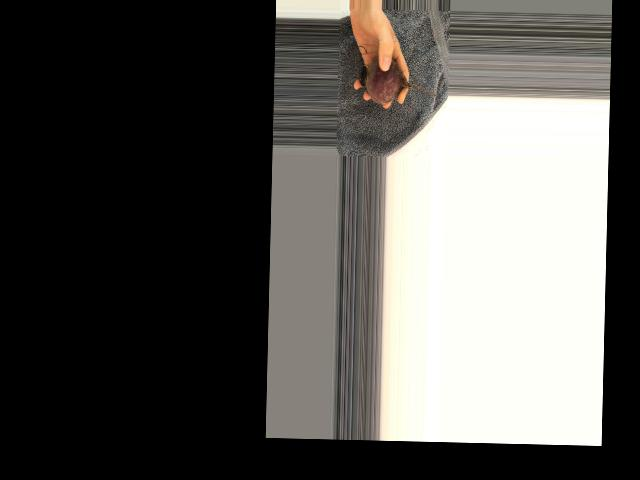beet: (359, 55, 438, 106)
